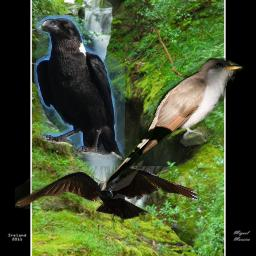Crow: (34, 15, 125, 160), (15, 166, 199, 230)
Cuckoo: (100, 58, 245, 191)
